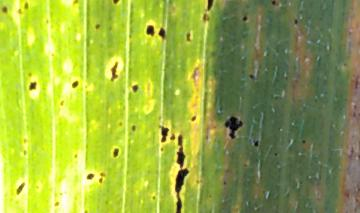tarspot: (173, 168, 190, 213), (222, 114, 243, 140), (176, 130, 187, 169), (158, 123, 169, 145), (14, 181, 28, 197), (109, 61, 120, 81), (26, 80, 41, 94), (144, 24, 157, 39), (111, 144, 122, 161), (158, 26, 168, 42), (84, 171, 97, 183), (69, 78, 82, 90), (205, 1, 216, 15), (130, 81, 140, 95), (184, 30, 193, 45), (271, 149, 282, 161), (290, 16, 300, 29), (148, 193, 161, 203), (22, 1, 34, 11), (251, 138, 262, 148), (240, 14, 250, 25), (1, 4, 11, 15), (51, 199, 63, 208), (93, 21, 102, 32), (130, 122, 137, 136), (169, 131, 176, 145), (110, 1, 122, 9), (268, 1, 281, 8), (189, 114, 198, 124), (300, 137, 308, 148), (72, 151, 79, 163), (71, 1, 85, 7), (247, 73, 257, 81), (21, 148, 29, 158), (58, 97, 65, 108), (97, 170, 107, 177), (97, 177, 105, 185)
